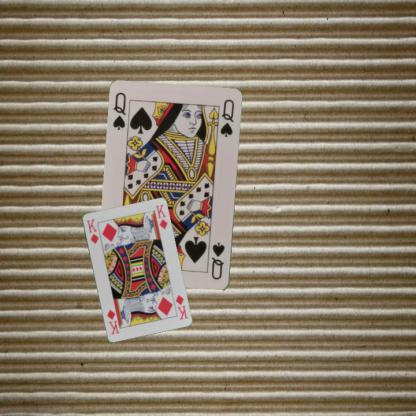Kd: (173, 292, 189, 321), (84, 216, 100, 244)
Qs: (209, 240, 227, 281), (110, 90, 127, 132)
